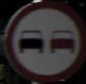No overtake: (8, 2, 76, 73)
